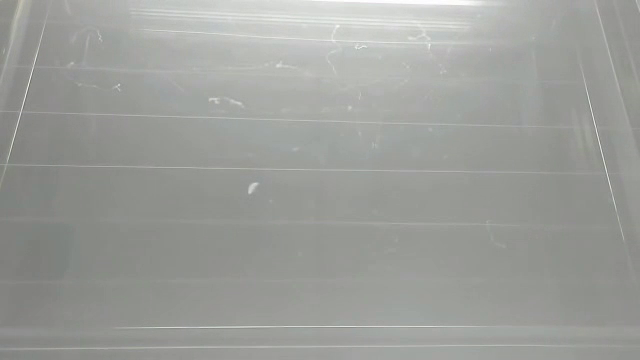alpha: (245, 180, 263, 196)
